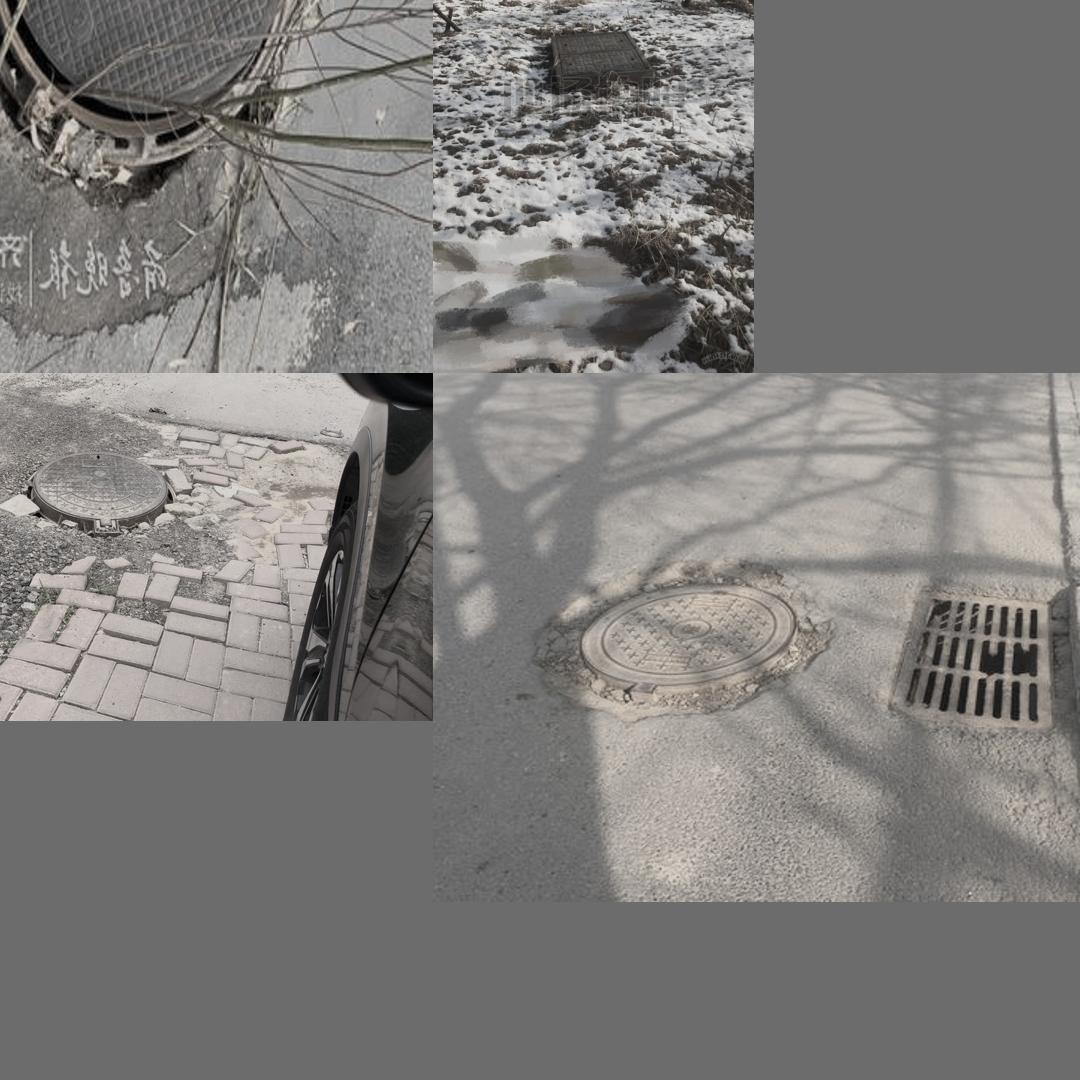circle: (0, 0, 376, 320), (532, 545, 842, 728), (0, 427, 224, 565), (546, 30, 661, 97)
